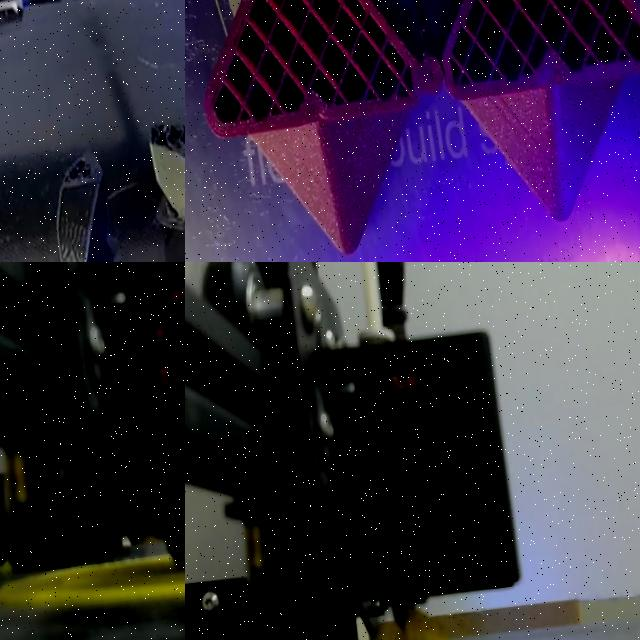spaghetti: (375, 606, 449, 640)
